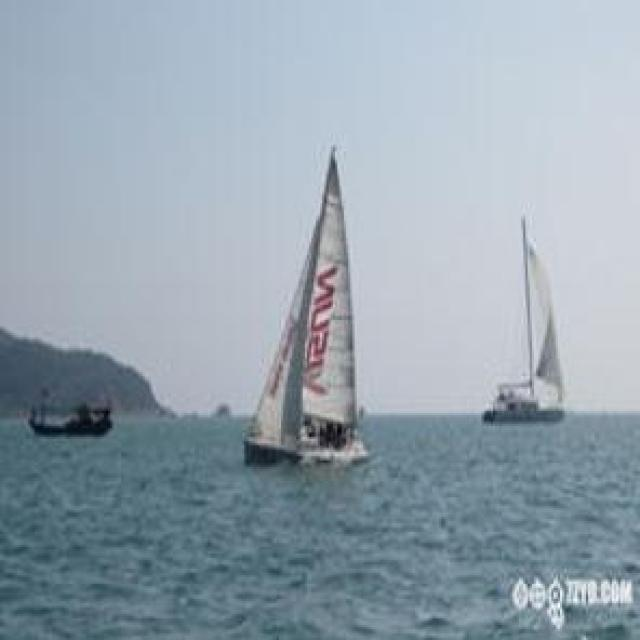fishing boat: (19, 387, 119, 436)
sailboat: (242, 138, 376, 470), (477, 208, 570, 423)
